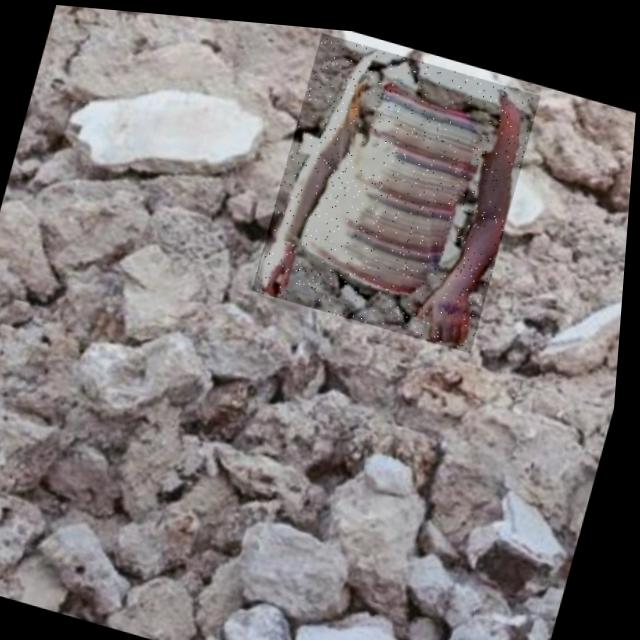Person in Rubble: (252, 23, 543, 348)
